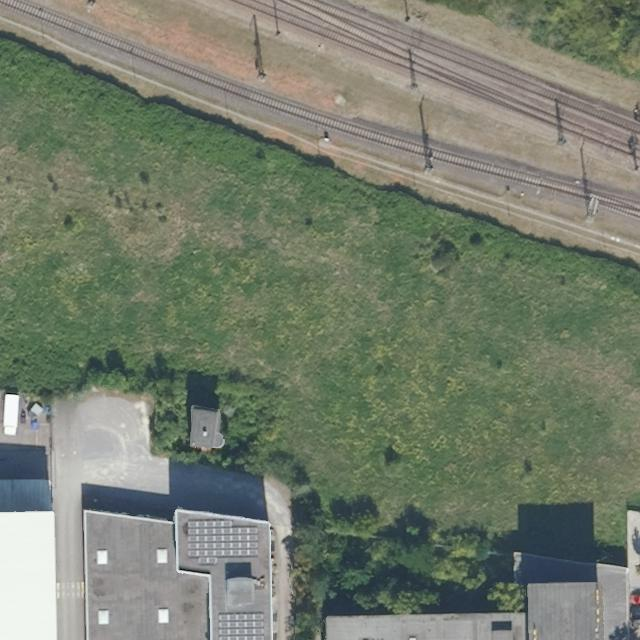PV: (178, 516, 260, 571), (218, 613, 264, 639)
